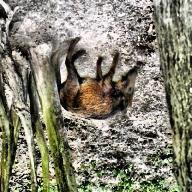boar: (58, 45, 158, 123)
